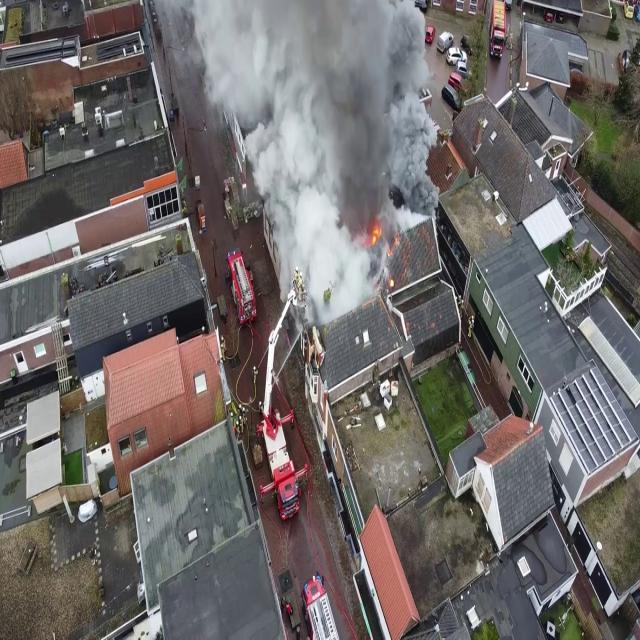Fire: (368, 215, 384, 252)
Smoke: (225, 0, 439, 317)
